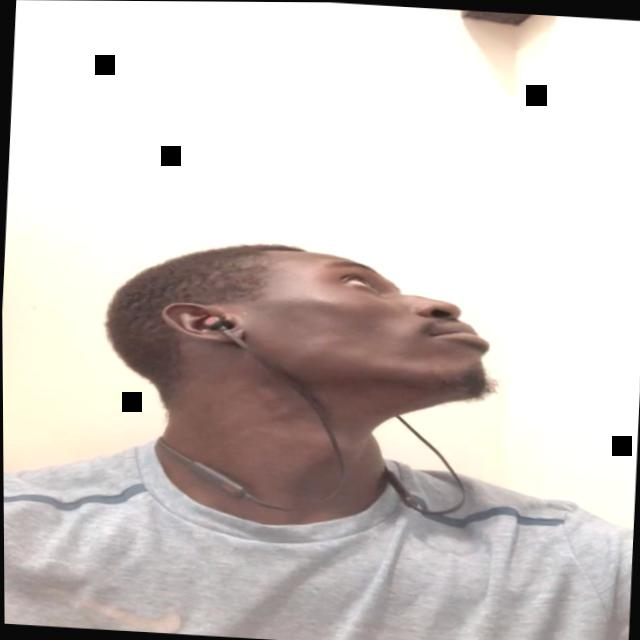NO-Mask: (198, 246, 504, 411)
